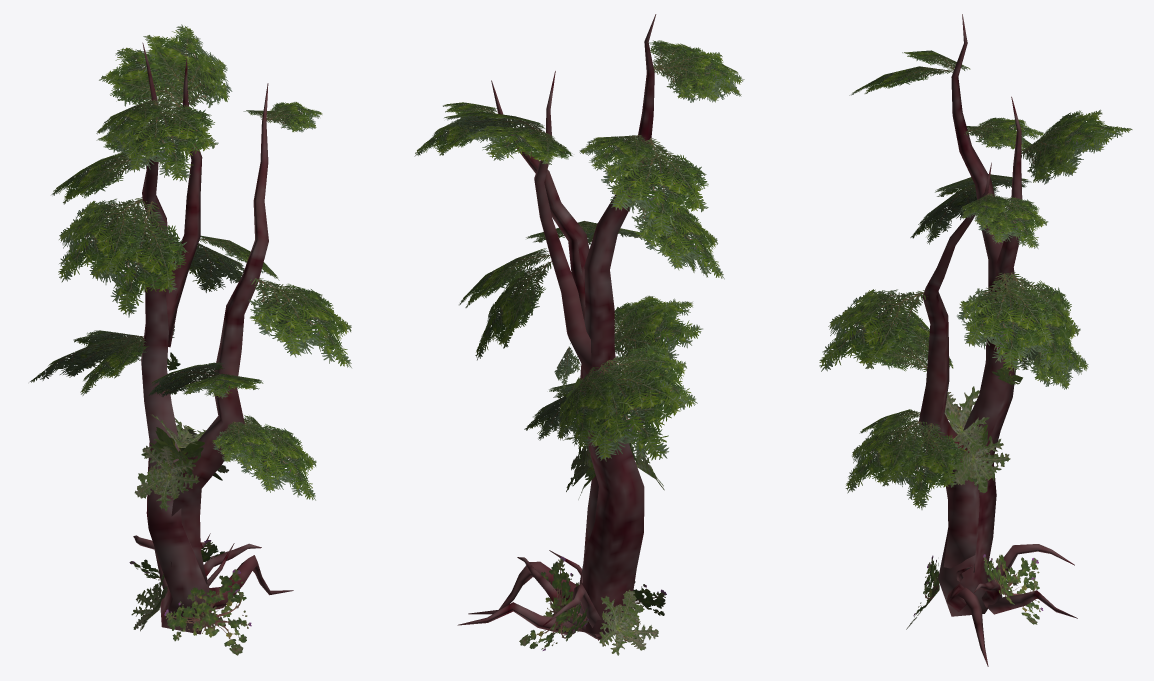
Rendered from Medium_Tree_1_Present.fbx.
3 views of the same model, side by side, from view 1: azimuth 30°, elevation 25°; view 2: azimuth 150°, elevation 25°; view 3: azimuth 270°, elevation 25° (orthographic). The views are drawn at different scales.
Visible parts, largest first — view 1: medium tree; view 2: medium tree; view 3: medium tree.
Boxes of the visible parts, x1,y1,x2,y2 form: medium tree: (30, 24, 351, 655); medium tree: (414, 14, 744, 655); medium tree: (819, 14, 1132, 666).
Size of the model in its own units: 2750 by 5365 by 2806.
